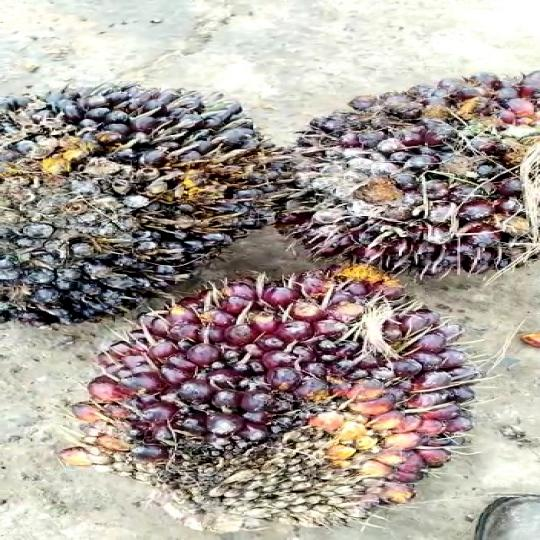kurang masak: (70, 260, 489, 519), (0, 75, 328, 323), (293, 69, 540, 279)
